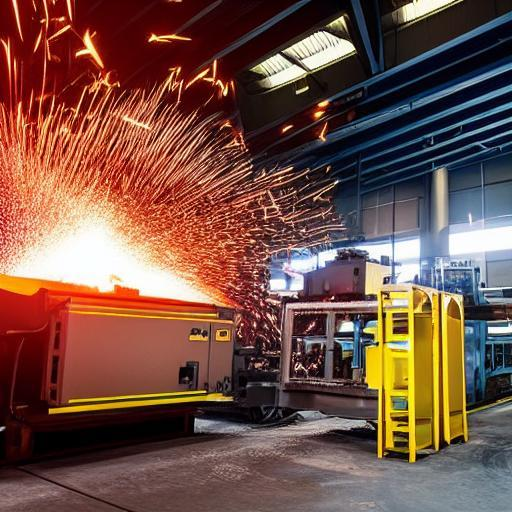fire: (1, 22, 348, 312)
